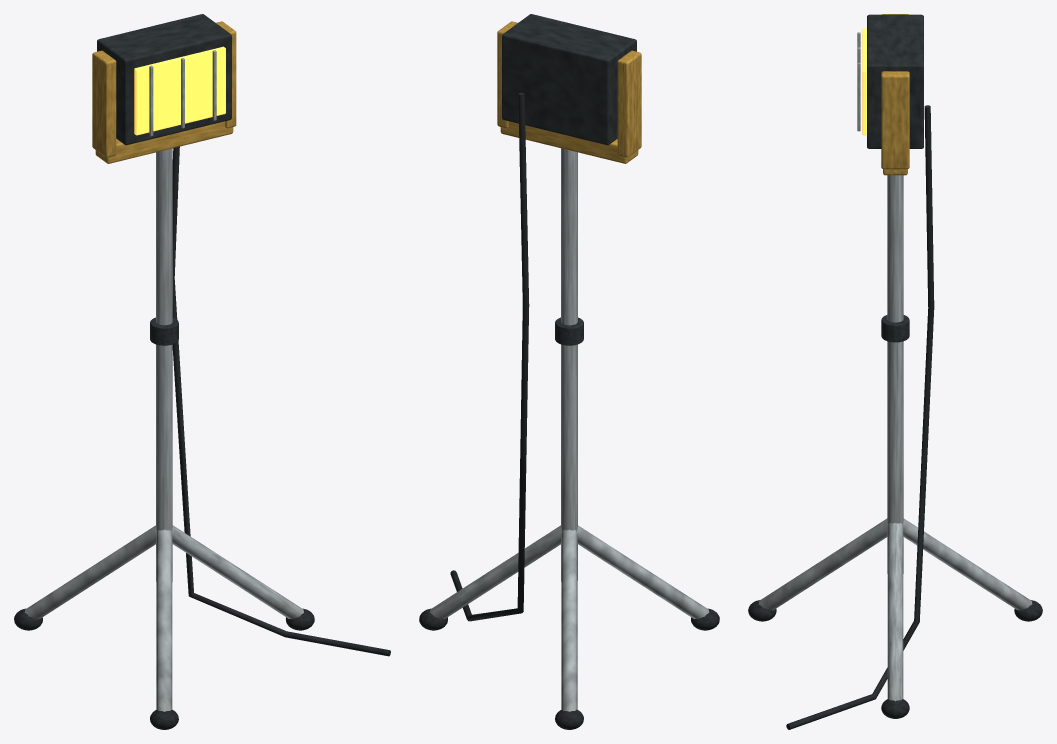
The model's file is GR_WorkLight_01.glb.
3 renders of one model, left to right at view 1: azimuth 30°, elevation 25°; view 2: azimuth 150°, elevation 25°; view 3: azimuth 270°, elevation 25°, orthographic. The views are drawn at different scales.
Visible parts, largest first — view 1: Static; view 2: Static; view 3: Static.
Part boxes in pixels (<box>): Static: <box>14,14,390,729</box>; Static: <box>419,14,719,729</box>; Static: <box>748,14,1042,729</box>.
Size of the model in its own units: 0.8019 by 1.89 by 0.8248.
Materials: 2 (2 with a texture image).
